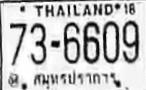0: (102, 21, 119, 64)
3: (30, 22, 47, 64)
6: (83, 21, 100, 63), (64, 22, 81, 64)
7: (9, 22, 27, 65)
9: (122, 20, 139, 64)
SPK: (32, 68, 116, 88)
